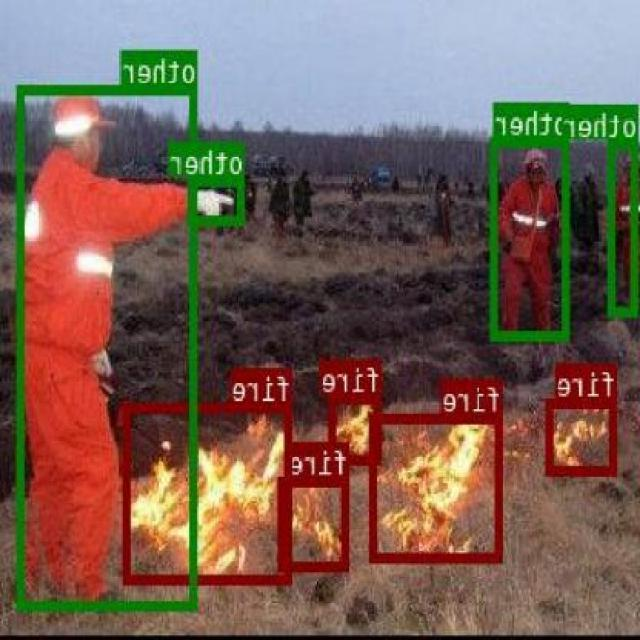Fire: (125, 400, 293, 582), (370, 412, 504, 562), (280, 476, 352, 570), (546, 396, 620, 474), (330, 393, 384, 462)
